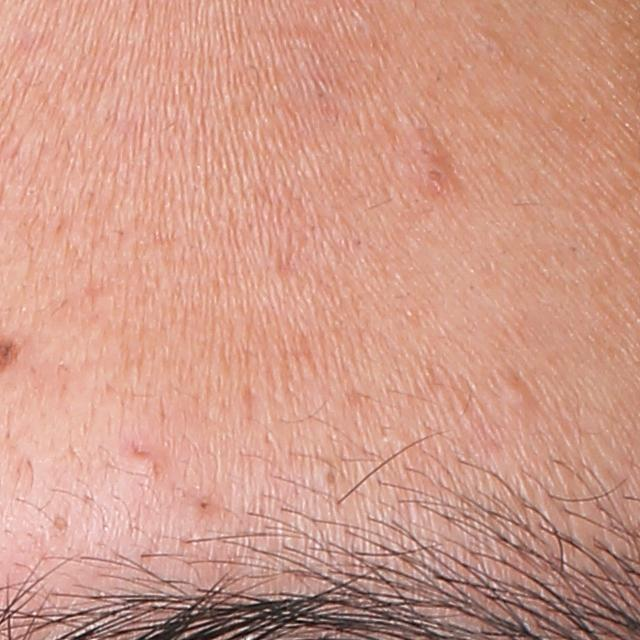comedo: (500, 378, 533, 407), (50, 512, 71, 535), (195, 496, 215, 514)
